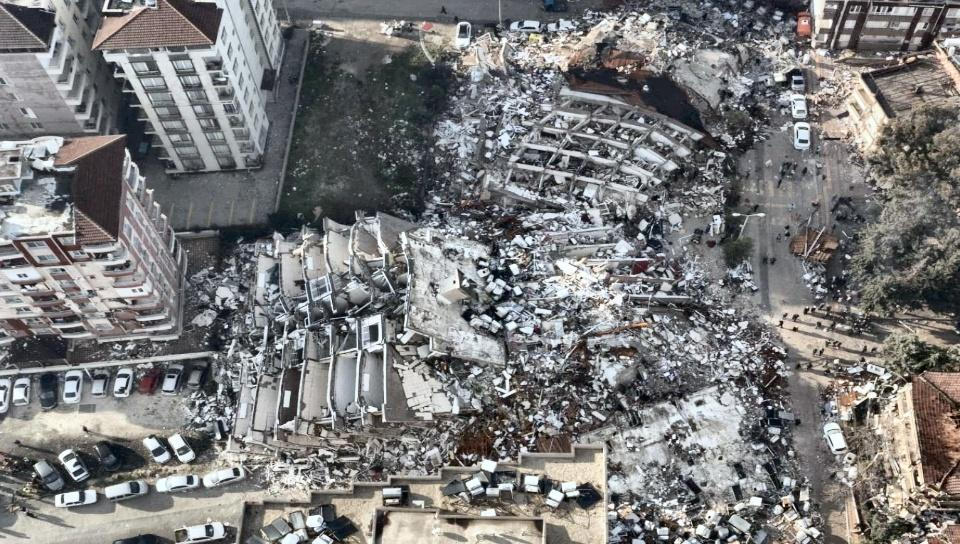kapali: (733, 313, 852, 543), (729, 0, 826, 180)
